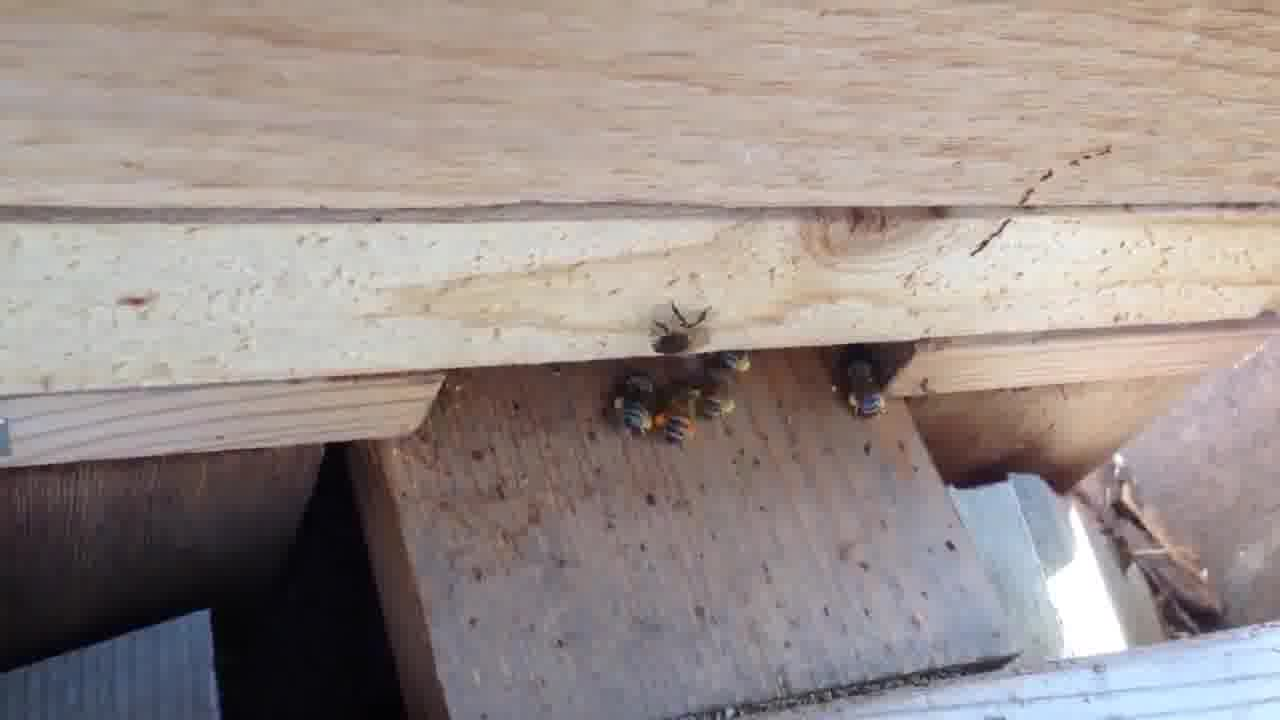pollen: (653, 380, 700, 454), (842, 365, 897, 425), (609, 369, 653, 443), (694, 368, 742, 424)
